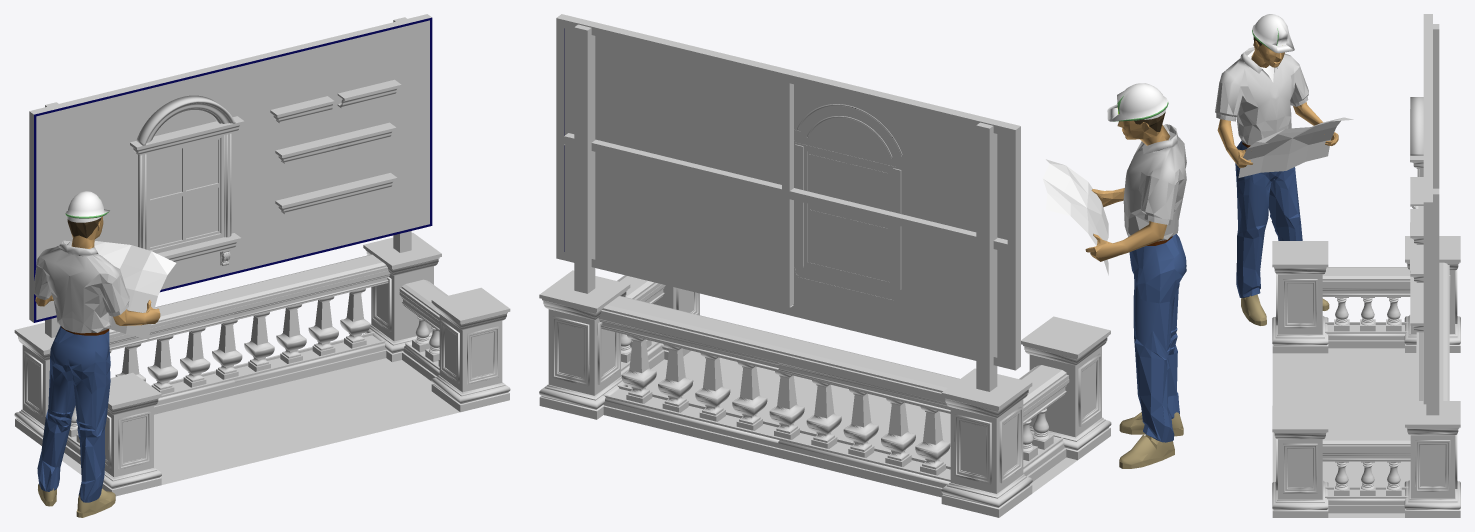
File: Foreman.fbx
3 renders of one model, left to right at view 1: azimuth 30°, elevation 25°; view 2: azimuth 150°, elevation 25°; view 3: azimuth 270°, elevation 25°, orthographic. The views are drawn at different scales.
Parts seen in each view (by area): view 1: G-__556131, Sketchup, G-__556554, G-__555582, G-__556563, G-__555618, G-__555933, G-__556113, G-__555717, G-__556032, G-__555627, G-__556185 (+34 smaller); view 2: G-__556131, G-__556554, G-__556113, G-__556122, Sketchup, G-__556095, G-__556104, G-__555582, G-__555654, G-__555618, G-__555789, G-__555816 (+28 smaller); view 3: G-__556554, Sketchup, G-__556131, G-__556563, G-__555717, G-__555933, G-__556032, G-__555870, G-__556077, G-__556095, G-__555906, G-__555861 (+31 smaller).
Part boxes in pixels (bbox=[...]): G-__556131: bbox=[29, 14, 432, 322]; Sketchup: bbox=[62, 358, 459, 484]; G-__556554: bbox=[32, 191, 160, 517]; G-__555582: bbox=[232, 332, 386, 394]; G-__556563: bbox=[94, 241, 176, 339]; G-__555618: bbox=[221, 254, 388, 307]; G-__555933: bbox=[439, 314, 502, 392]; G-__556113: bbox=[146, 135, 224, 253]; G-__555717: bbox=[371, 266, 433, 341]; G-__556032: bbox=[104, 405, 153, 477]; G-__555627: bbox=[233, 270, 390, 320]; G-__556185: bbox=[275, 173, 397, 214]; G-__556131: bbox=[556, 14, 1020, 370]; G-__556554: bbox=[1085, 83, 1186, 468]; G-__556113: bbox=[803, 146, 892, 287]; G-__556122: bbox=[564, 81, 1007, 306]; Sketchup: bbox=[564, 144, 1077, 493]; G-__556095: bbox=[574, 24, 595, 293]; G-__556104: bbox=[976, 122, 997, 391]; G-__555582: bbox=[603, 384, 780, 457]; G-__555654: bbox=[777, 429, 950, 497]; G-__555618: bbox=[601, 296, 794, 357]; G-__555789: bbox=[950, 399, 1023, 493]; G-__555816: bbox=[777, 338, 959, 397]; G-__556554: bbox=[1215, 14, 1338, 325]; Sketchup: bbox=[1272, 348, 1416, 517]; G-__556131: bbox=[1423, 14, 1432, 404]; G-__556563: bbox=[1238, 117, 1353, 177]; G-__555717: bbox=[1410, 435, 1454, 498]; G-__555933: bbox=[1278, 439, 1322, 499]; G-__556032: bbox=[1278, 274, 1322, 334]; G-__555870: bbox=[1325, 486, 1408, 513]; G-__556077: bbox=[1325, 322, 1408, 348]; G-__556095: bbox=[1426, 188, 1439, 415]; G-__555906: bbox=[1272, 405, 1328, 432]; G-__555861: bbox=[1322, 432, 1410, 449].
Size of the model in its own units: 280 by 188 by 132.
